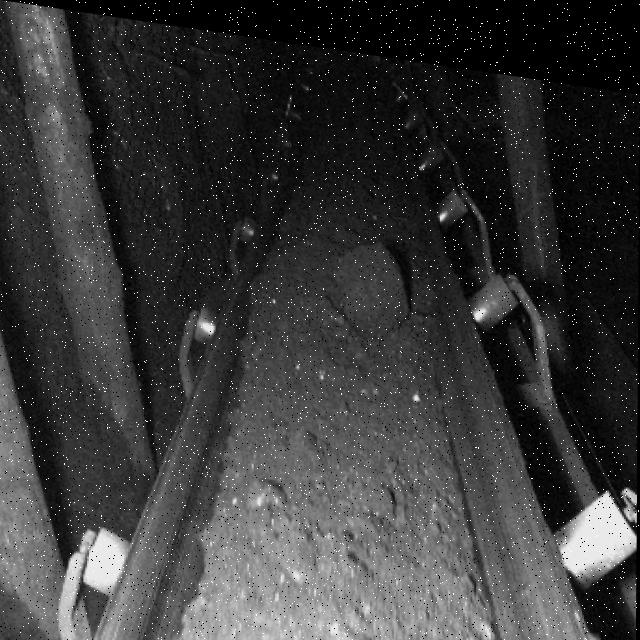large_sized_coal: (331, 219, 412, 329)
